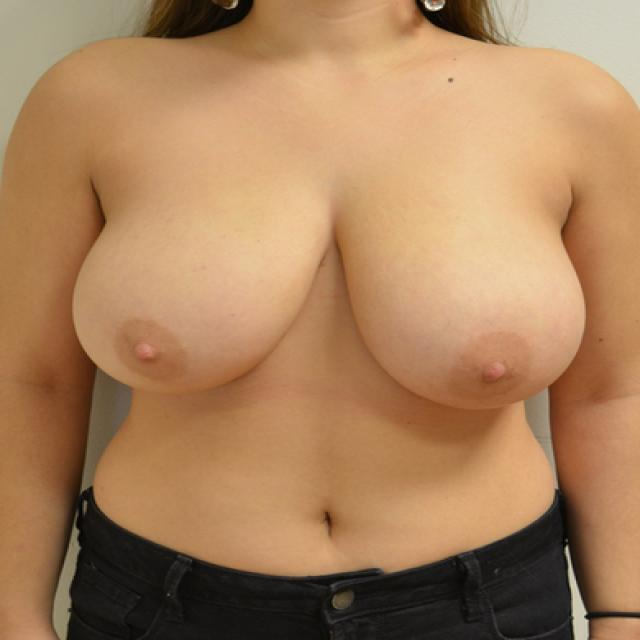Seno ileso: (334, 188, 597, 432), (63, 189, 331, 416)
